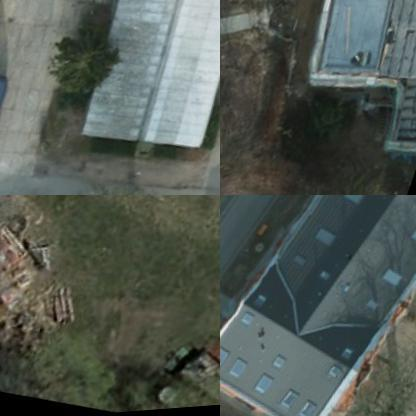truck: (165, 332, 219, 413)
van: (0, 72, 14, 153)
